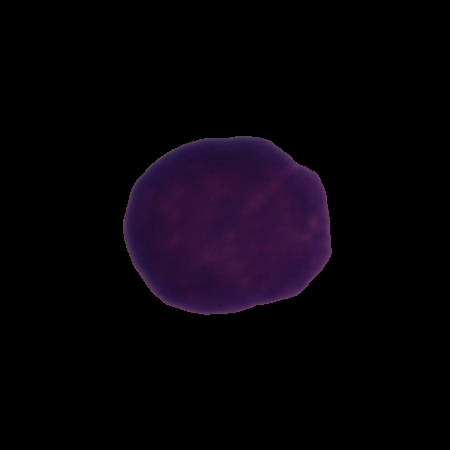HEM: (118, 131, 336, 318)
